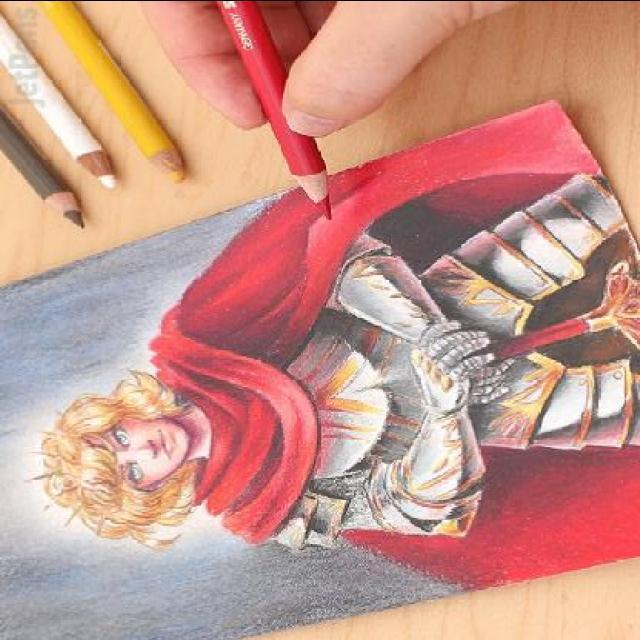pencil: (284, 158, 344, 226), (140, 135, 198, 191), (32, 183, 94, 234), (68, 136, 122, 193)
